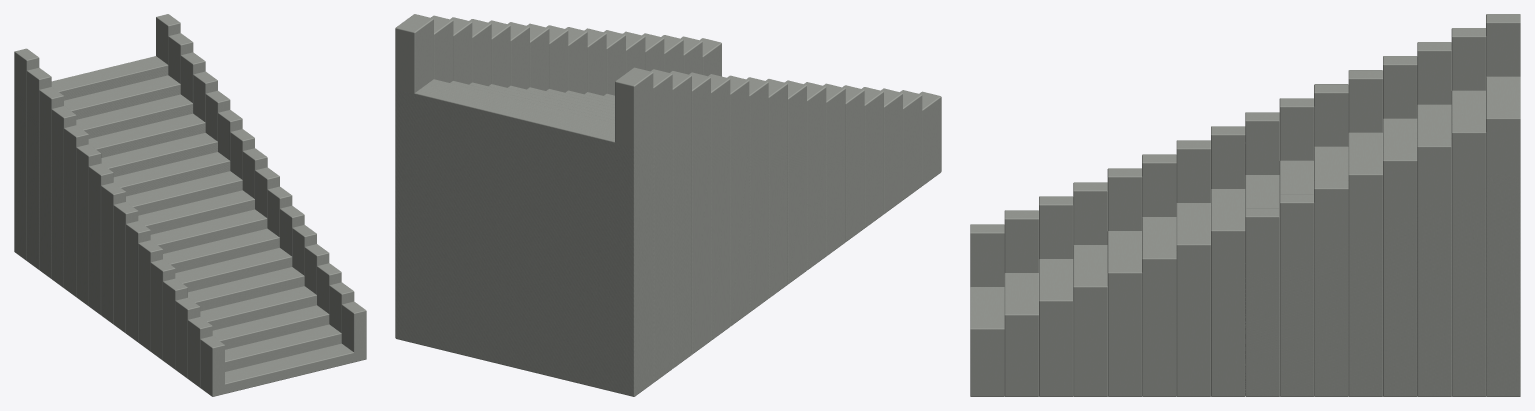
File: hydroelectric-dam-infiltration-spillway-chute-dc524c31__29334.glb
The picture shows the model from 3 angles, left to right: view 1: azimuth 30°, elevation 25°; view 2: azimuth 150°, elevation 25°; view 3: azimuth 270°, elevation 25°; orthographic projection. The views are drawn at different scales.
Parts seen in each view (by area): view 1: spillway-chute; view 2: spillway-chute; view 3: spillway-chute.
Boxes of the visible parts, x1,y1,x2,y2 form: spillway-chute: [14, 14, 366, 396]; spillway-chute: [395, 14, 941, 396]; spillway-chute: [970, 14, 1520, 396].
Bounding box in the file's own units: 3.6 × 4.48 × 8.01.
Materials: 1 (1 with a texture image).
